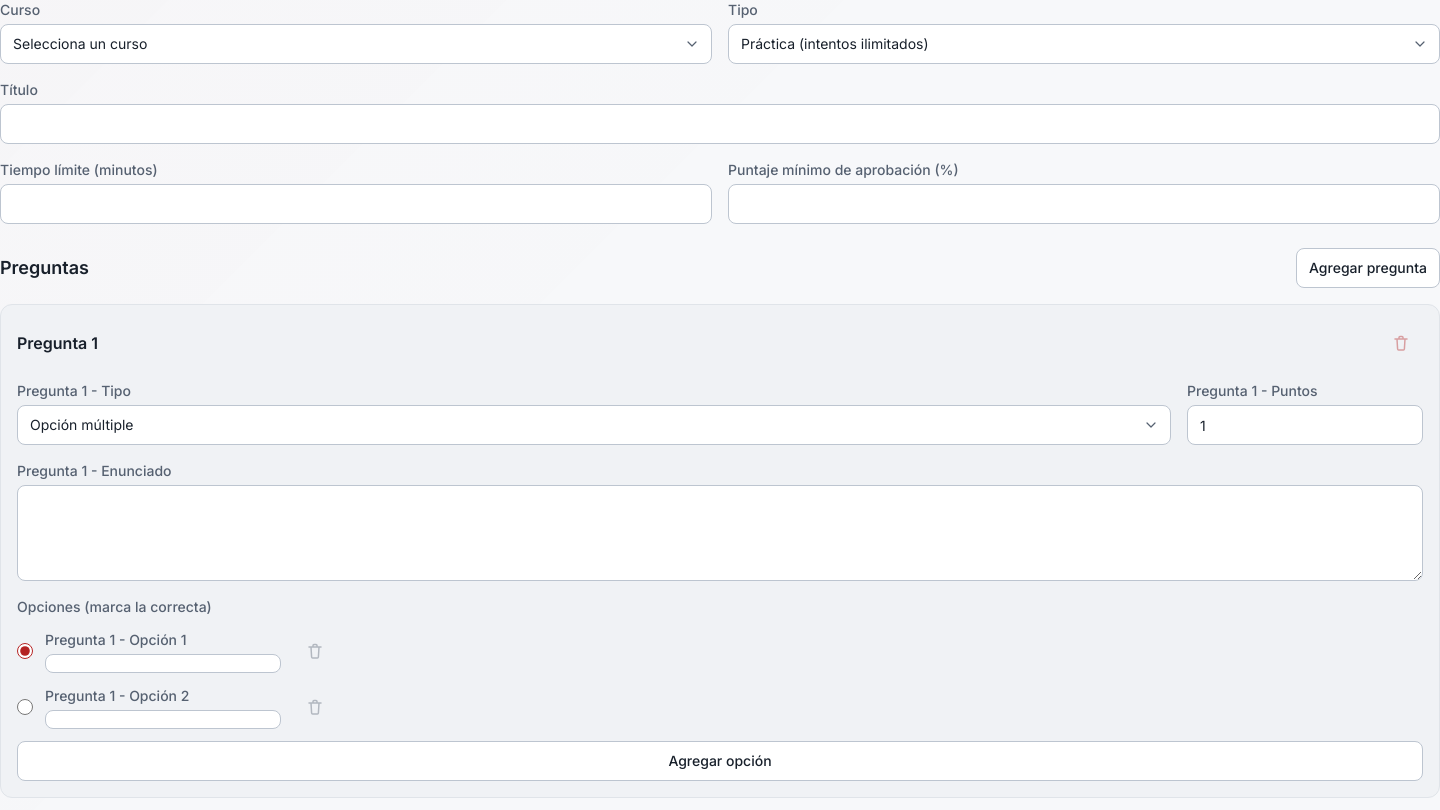
Scenario: ExamForm › cambiar el tipo de pregunta a texto abierto reemplaza las opciones por respuesta correcta y sinónimos
Select "Texto abierto" in the dropdown labelled "Pregunta 1 - Tipo" at {"x": 594, "y": 425}, box [17,405,1171,445]
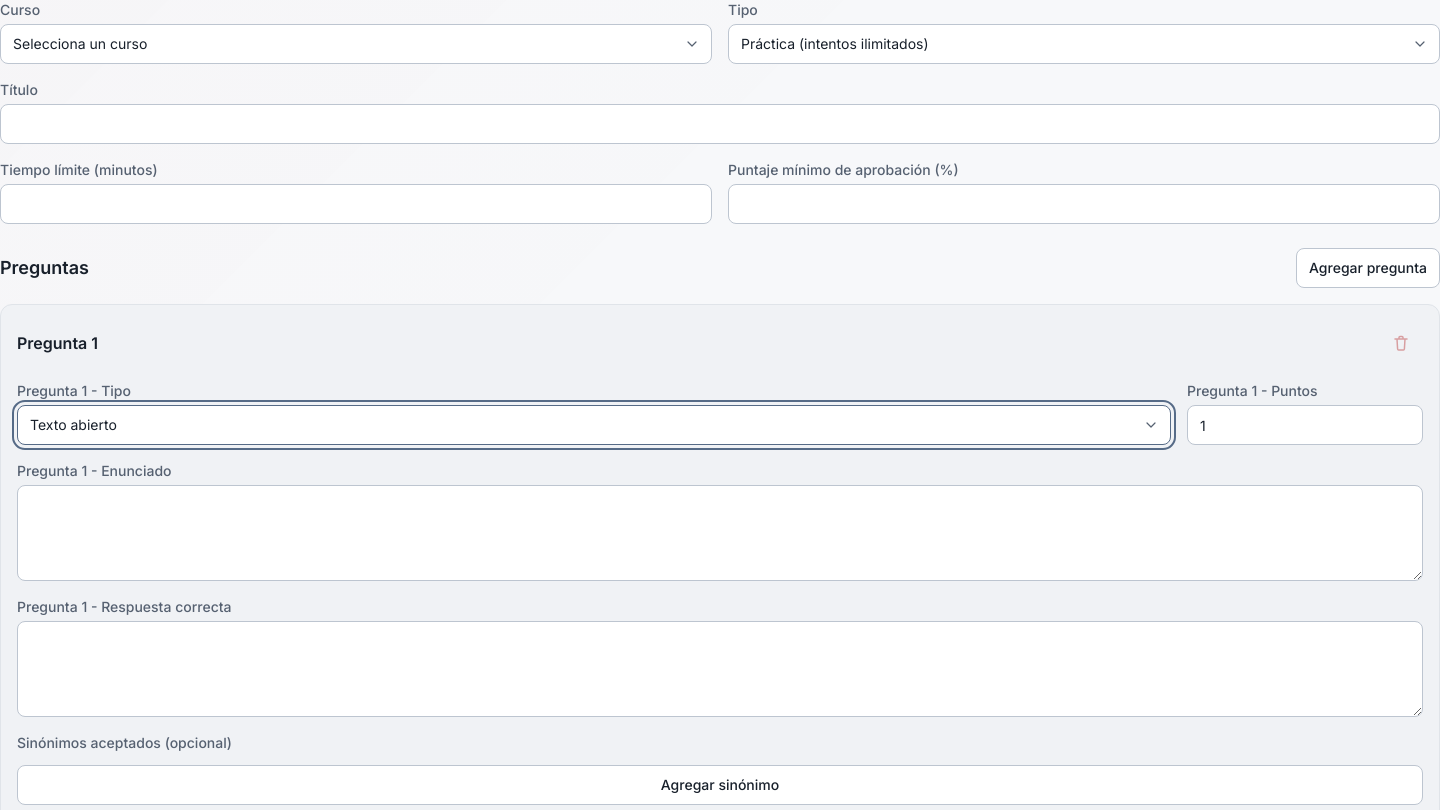
Expected: the label labelled "Pregunta 1 - Opción 1" is gone
Expected: the text box labelled "Pregunta 1 - Respuesta correcta" is shown, [17,621,1423,717]
